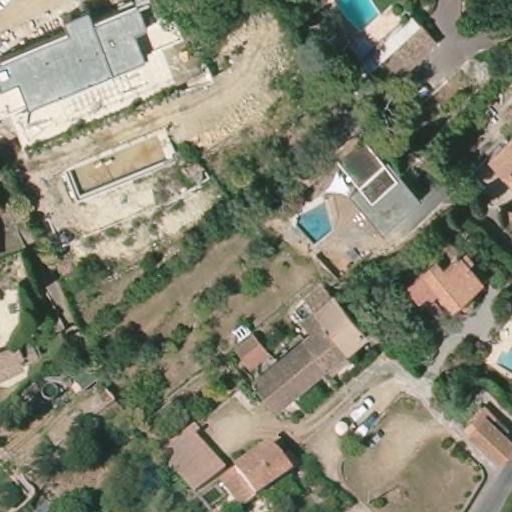pool: (292, 200, 335, 244), (330, 1, 381, 32), (494, 338, 512, 373)
